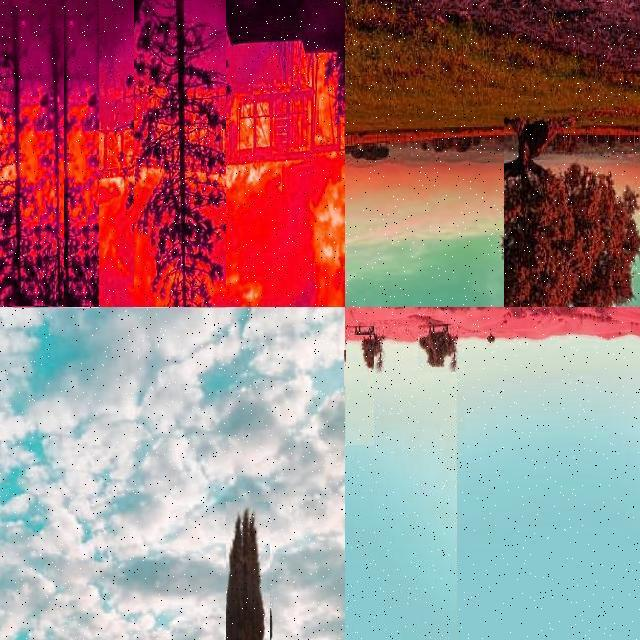tree: (345, 326, 457, 640), (134, 0, 226, 308), (13, 0, 99, 308), (504, 117, 640, 307), (0, 6, 64, 306), (0, 38, 32, 306), (226, 502, 270, 640), (320, 38, 344, 210), (346, 335, 374, 445), (418, 324, 458, 372), (346, 330, 358, 372), (344, 350, 356, 386), (487, 332, 495, 344)
